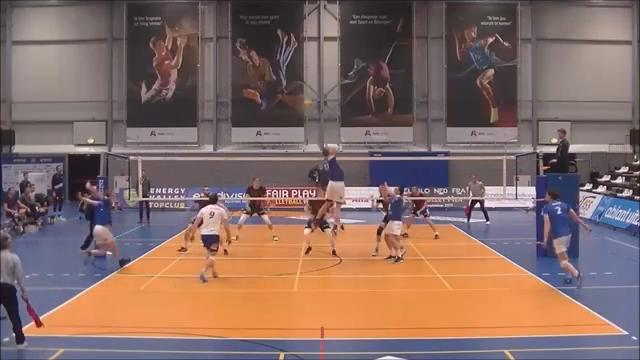Player: (542, 191, 589, 287), (190, 194, 229, 282), (83, 182, 119, 261), (372, 184, 407, 259), (316, 145, 344, 233), (232, 199, 278, 240), (382, 183, 405, 263), (403, 186, 438, 238), (304, 199, 330, 254), (372, 185, 388, 256), (177, 216, 195, 251)
ball: (302, 98, 314, 109)
